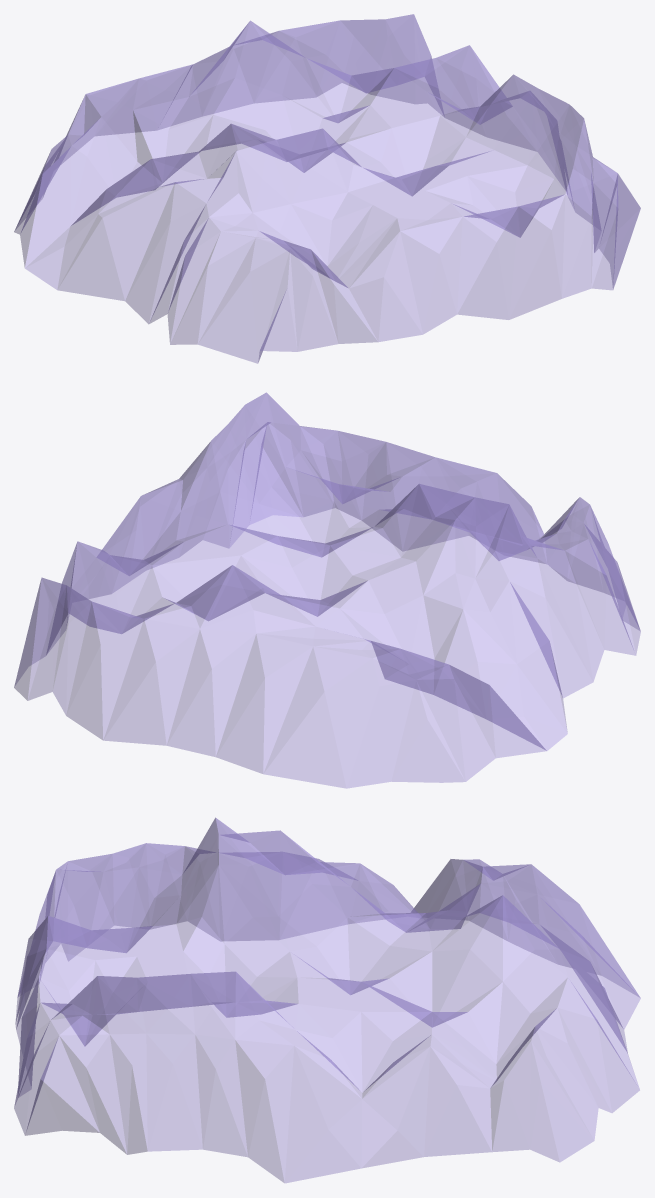
File: Ceiling.glb
3 views of the same model, one above another, from view 1: azimuth 30°, elevation 25°; view 2: azimuth 150°, elevation 25°; view 3: azimuth 270°, elevation 25° (orthographic). The views are drawn at different scales.
Parts seen in each view (by area): view 1: Ceiling; view 2: Ceiling; view 3: Ceiling.
Boxes of the visible parts, x1,y1,x2,y2 form: Ceiling: (14,14,640,363); Ceiling: (14,392,640,788); Ceiling: (14,817,640,1182).
Size of what is drawn, in the model's own units: 479 by 146 by 480.
